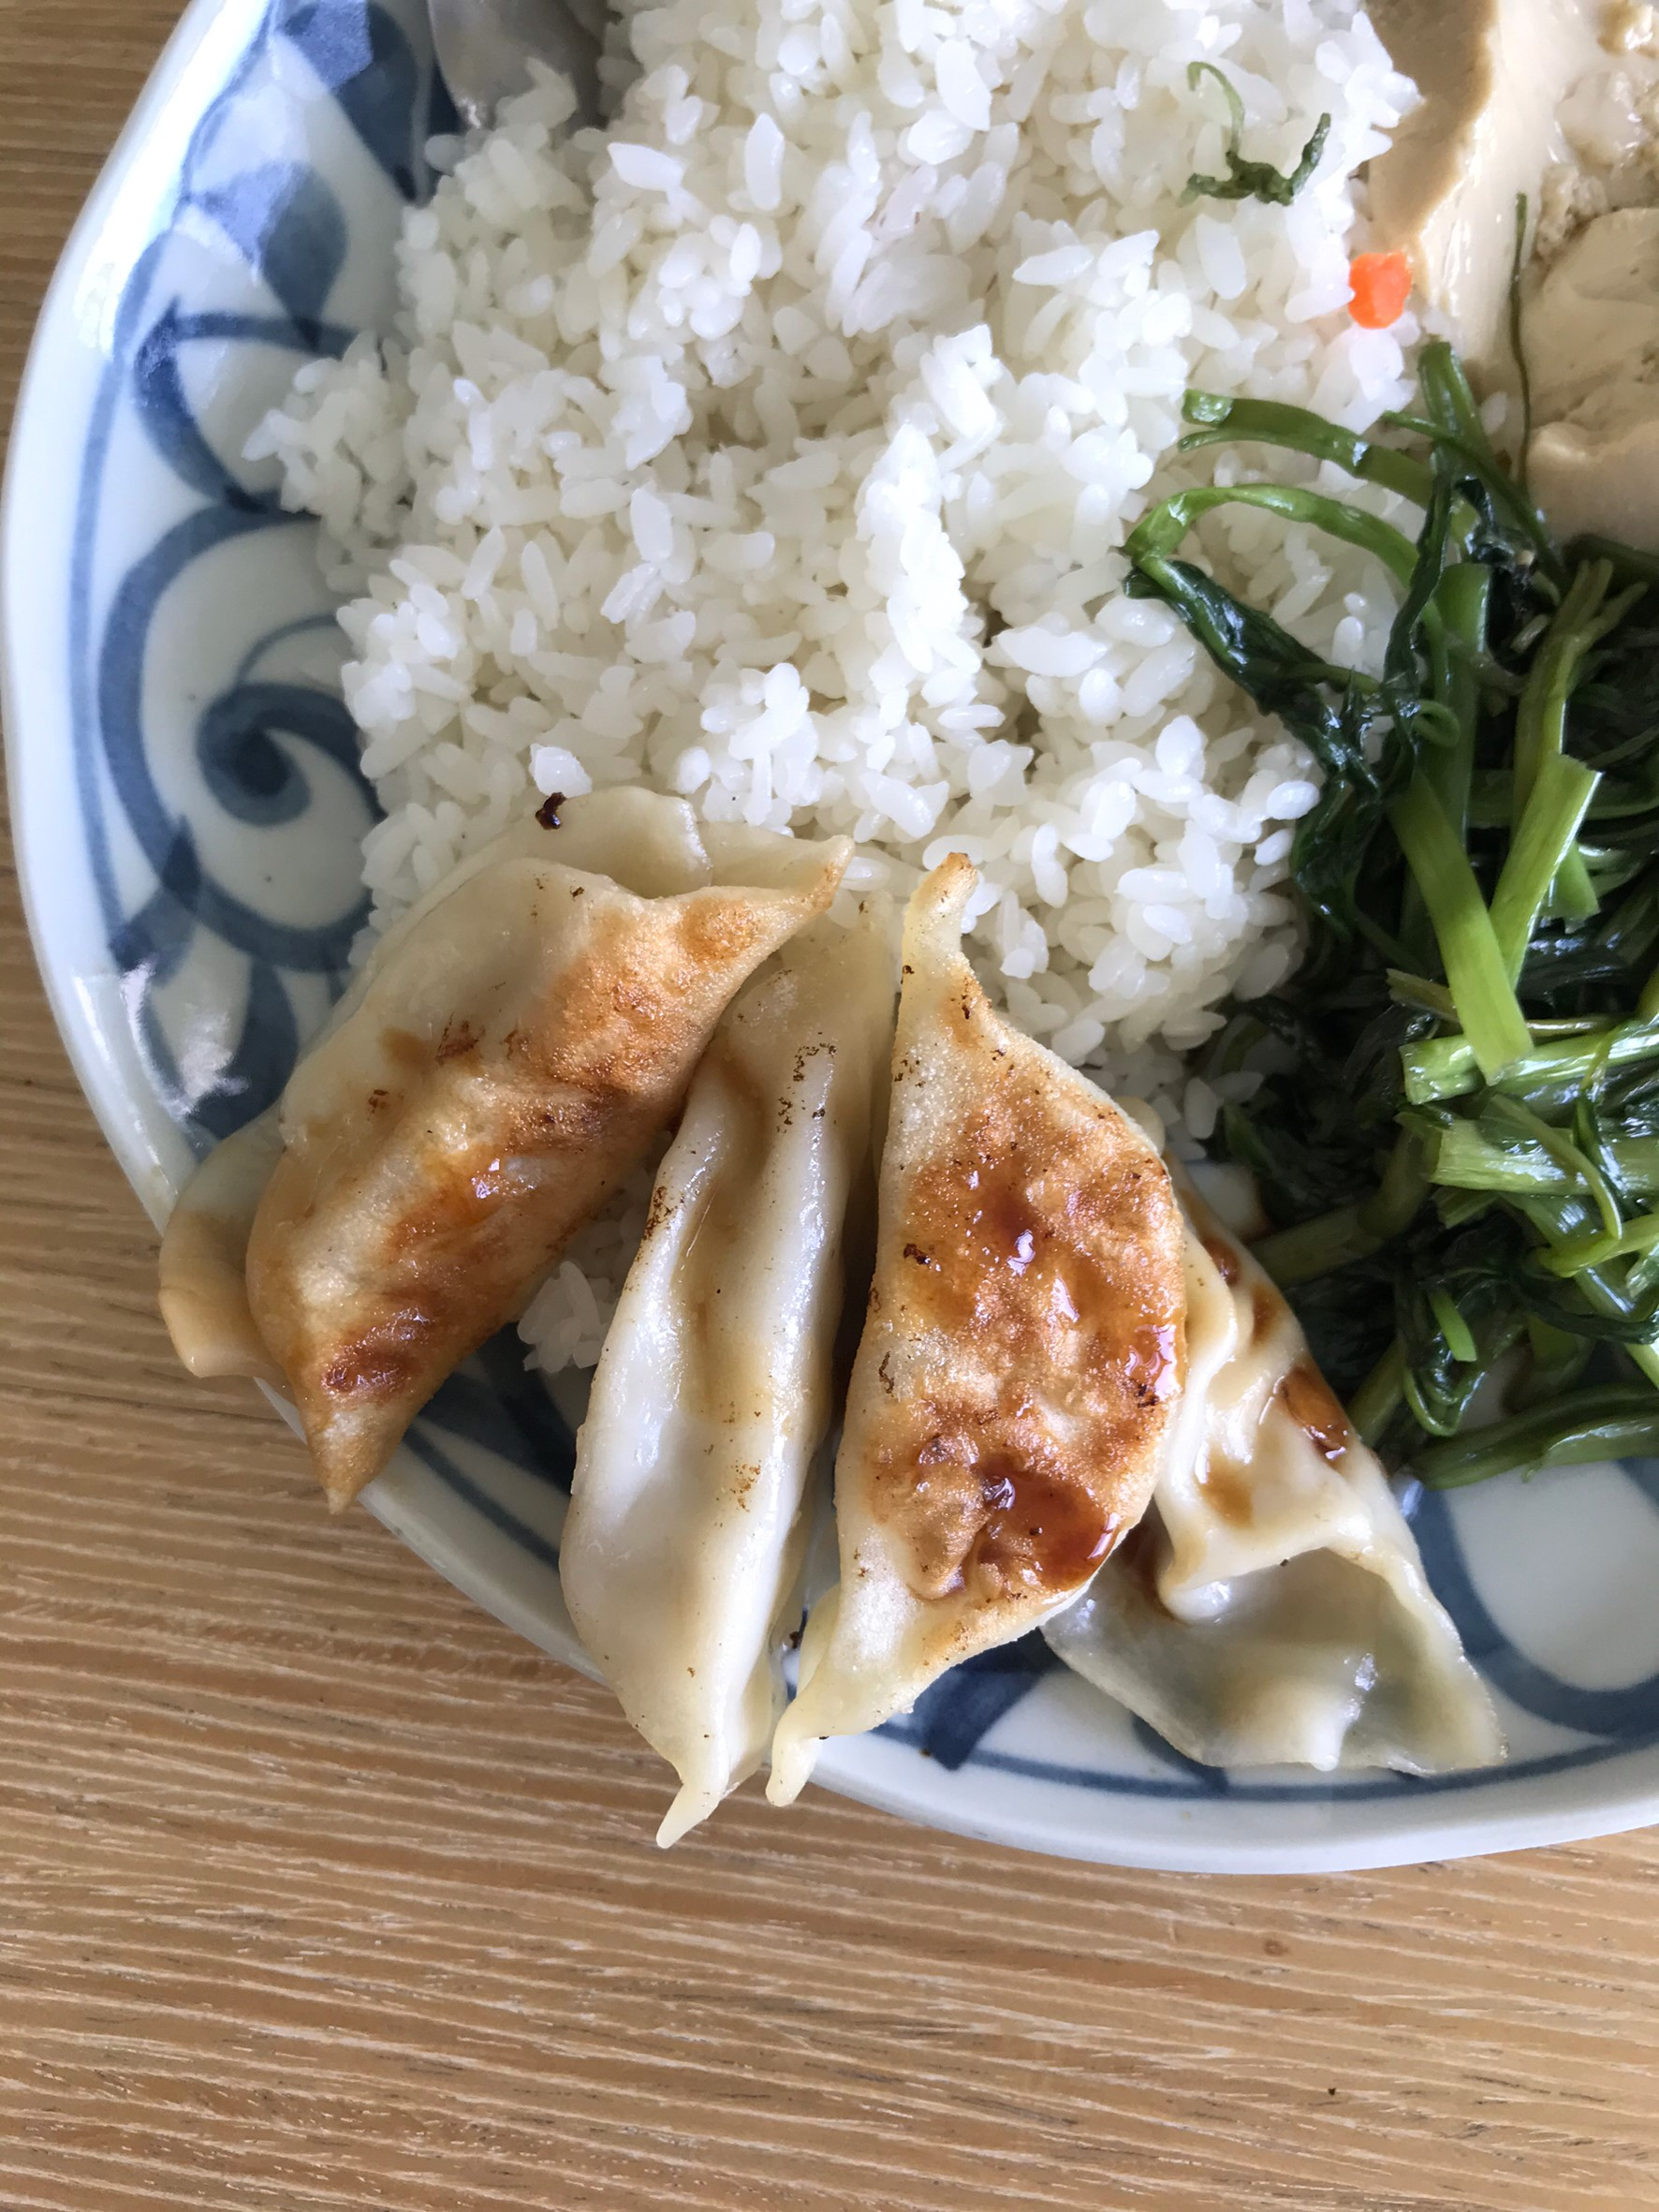fried_dumplings: (354, 922, 1361, 1755)
rice: (416, 5, 1441, 875)
water_spinach: (1335, 558, 1659, 1401)
